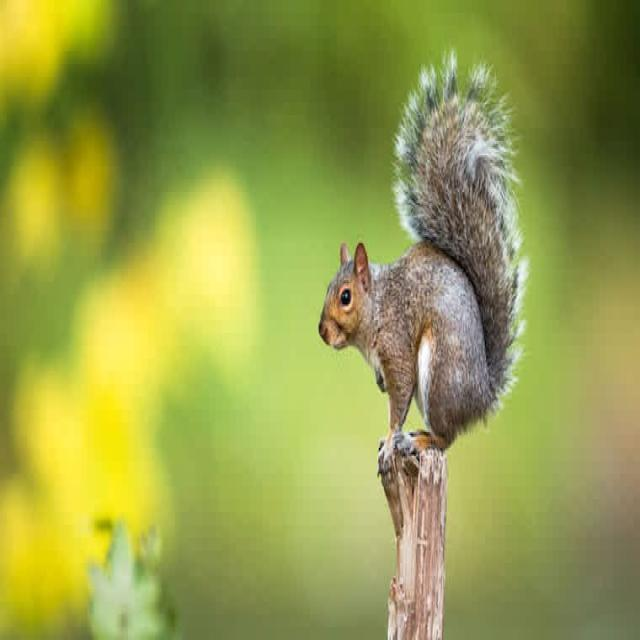Squirrel: (314, 70, 522, 447)
